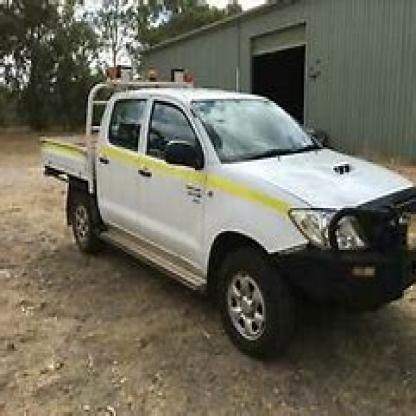light_vehicle: (22, 61, 414, 357)
